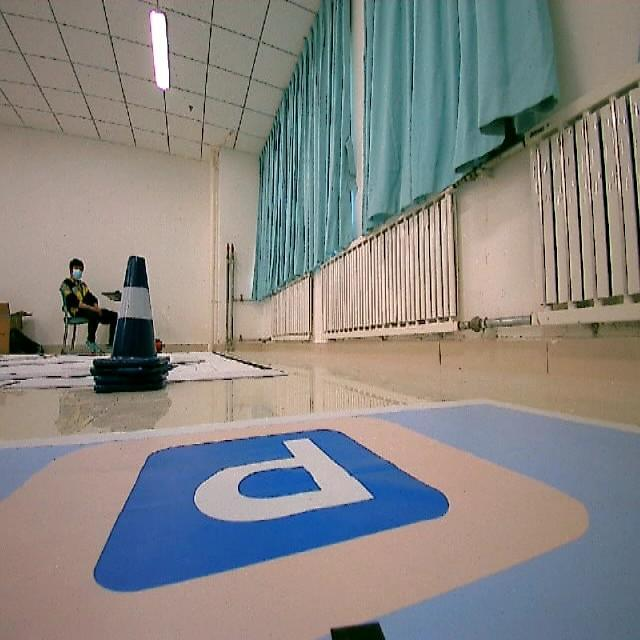obstacle: (96, 248, 174, 396)
